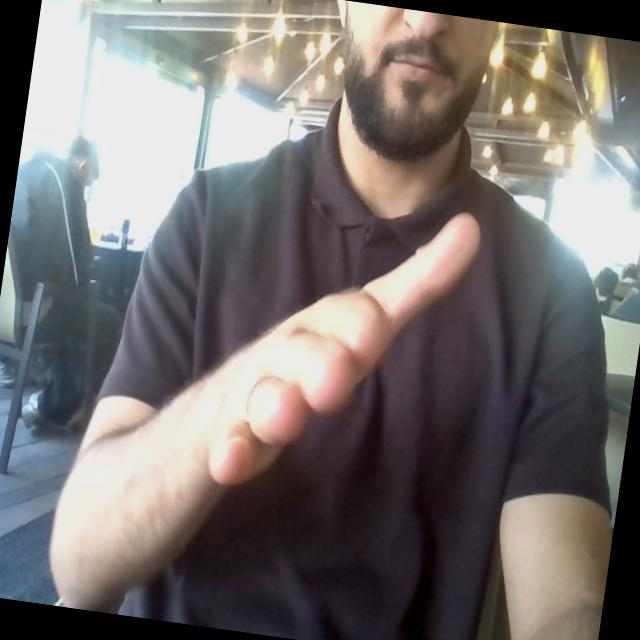Hand: (208, 214, 479, 484)
